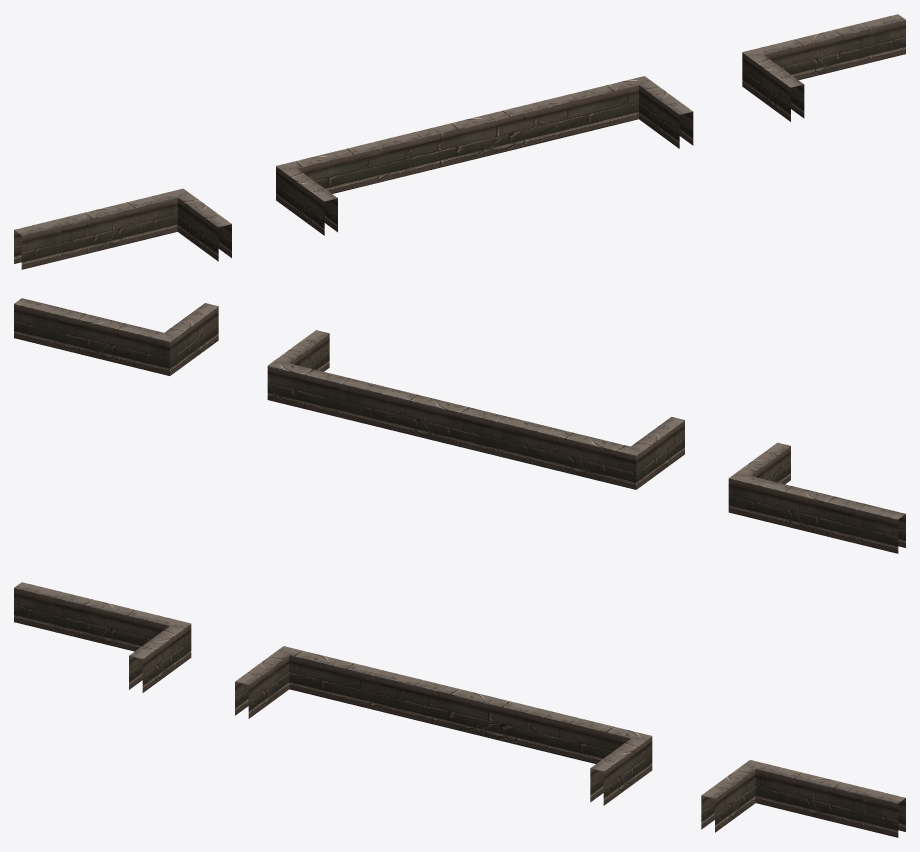
The model's file is A03_battle_floor_c_wall.FBX.
3 views of the same model, one above another, from view 1: azimuth 30°, elevation 25°; view 2: azimuth 150°, elevation 25°; view 3: azimuth 330°, elevation 25° (orthographic).
Visible parts, largest first — view 1: A03_battle_floor_c_wall; view 2: A03_battle_floor_c_wall; view 3: A03_battle_floor_c_wall.
Boxes of the visible parts, left/top/right/bottom form: A03_battle_floor_c_wall: left=14, top=14, right=905, bottom=269; A03_battle_floor_c_wall: left=14, top=298, right=905, bottom=553; A03_battle_floor_c_wall: left=14, top=582, right=905, bottom=837.
Size of the model in its own units: 35.57 by 1.32 by 3.39.
